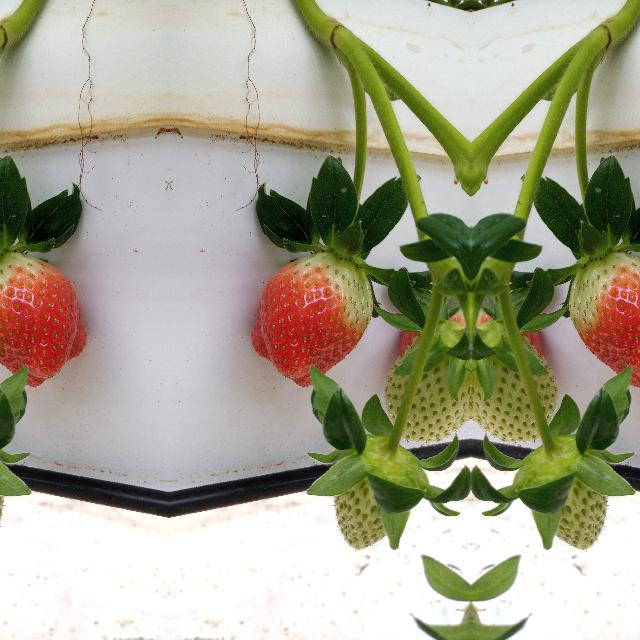Health_25: (471, 327, 554, 455), (388, 327, 470, 455), (328, 438, 414, 556), (528, 438, 612, 556)
Health_75: (248, 253, 374, 387), (0, 253, 87, 387), (567, 253, 640, 387)
